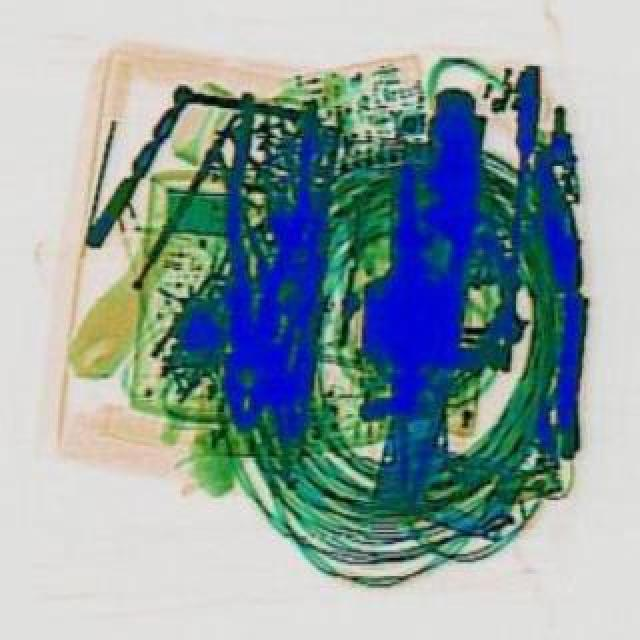wrench: (198, 96, 316, 440)
